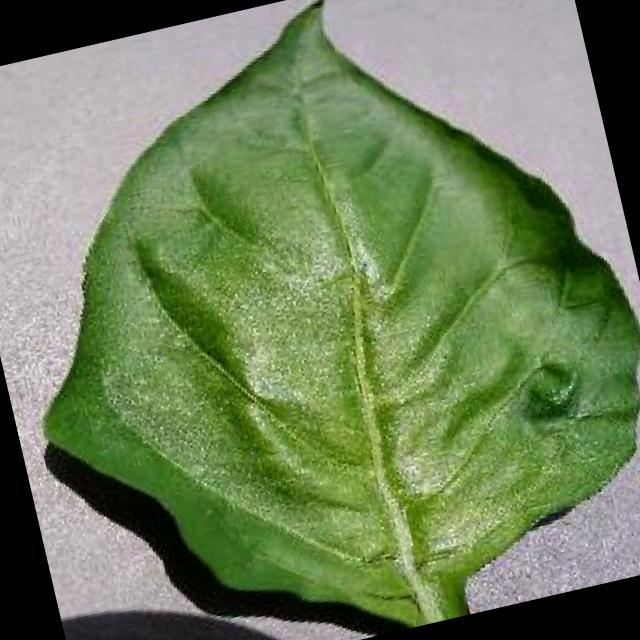Leaf: (103, 90, 640, 571)
